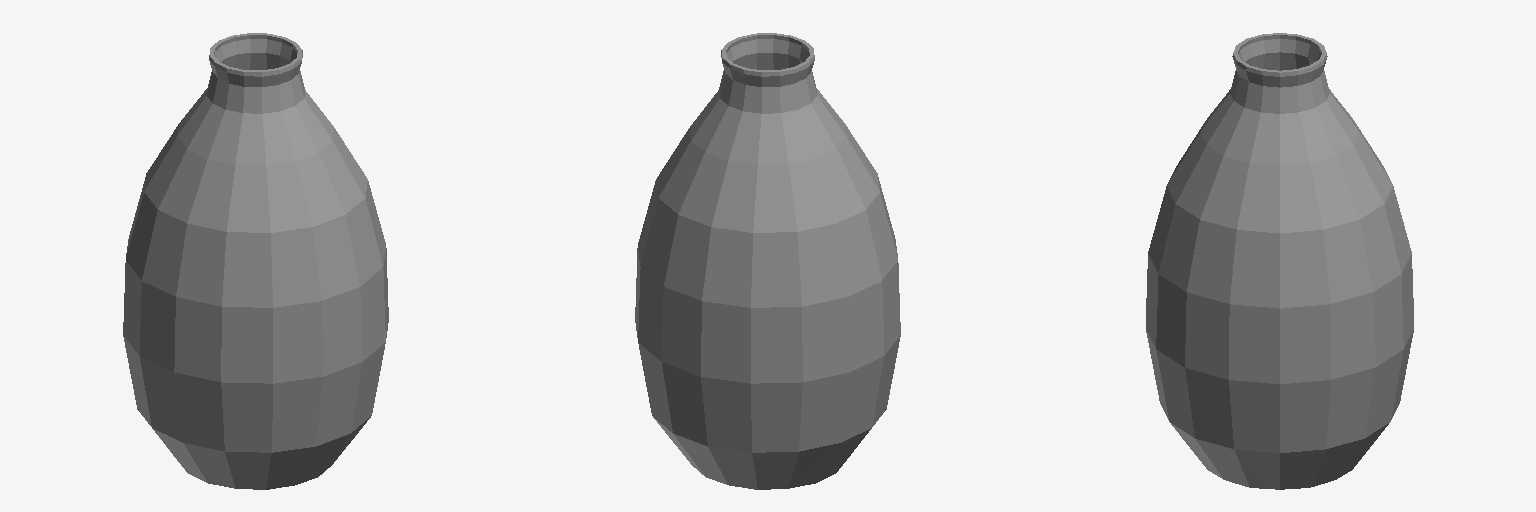
The model's file is jug.obj.
3 views of the same model, side by side, from view 1: azimuth 30°, elevation 25°; view 2: azimuth 150°, elevation 25°; view 3: azimuth 270°, elevation 25° (orthographic).
Parts seen in each view (by area): view 1: jug; view 2: jug; view 3: jug.
Part boxes in pixels (x1,y1,x2,y2): jug: (123, 33, 388, 489); jug: (635, 33, 900, 489); jug: (1146, 33, 1413, 489).
Size of the model in its own units: 0.6276 by 1.05 by 0.6276.